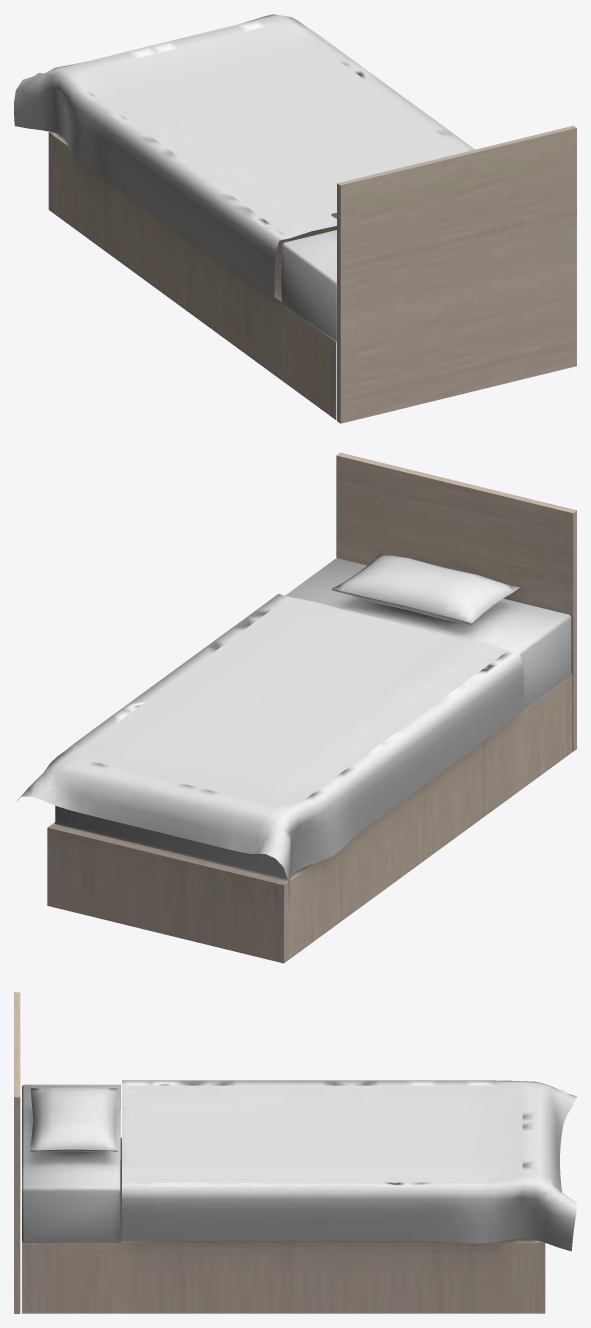
Rendered from SingleBed.gltf.
3 views of the same model, one above another, from view 1: azimuth 30°, elevation 25°; view 2: azimuth 150°, elevation 25°; view 3: azimuth 270°, elevation 25° (orthographic). The views are drawn at different scales.
Visible parts, largest first — view 1: bed; view 2: bed; view 3: bed.
Boxes of the visible parts, box(x1,y1,x2,y2) form: bed: box(14, 14, 576, 423); bed: box(17, 452, 576, 963); bed: box(14, 992, 576, 1313).
Size of the model in its own units: 13.7 by 11.4 by 26.83.
Materials: 1 (1 with a texture image).
